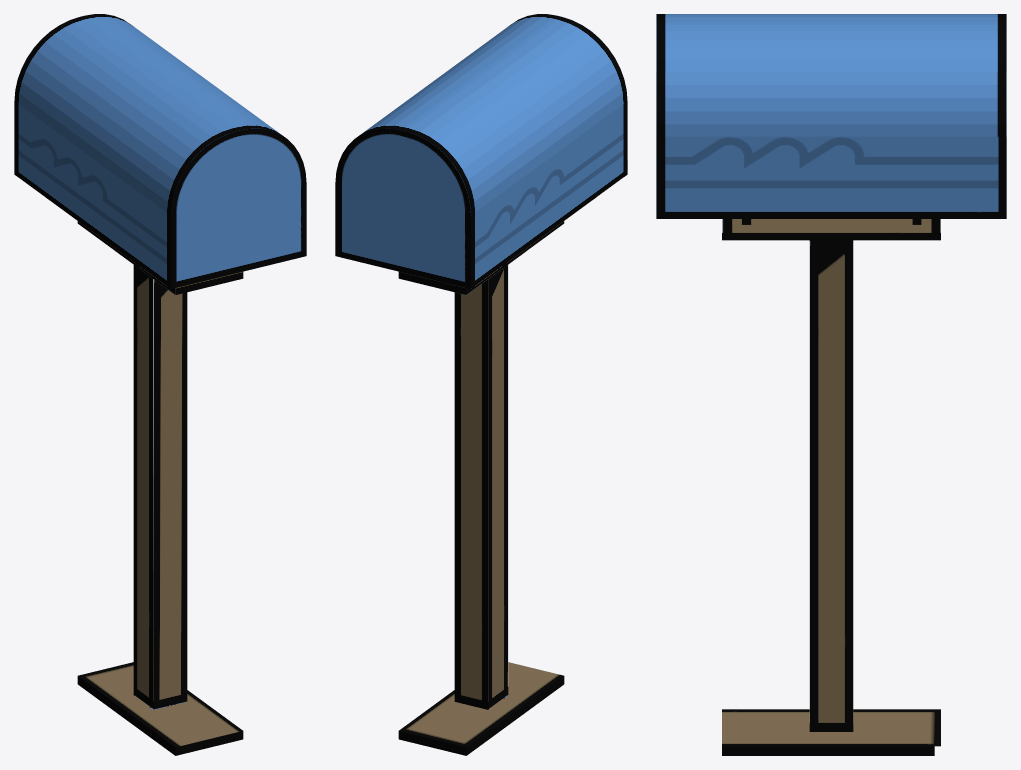
The model's file is mailbox.obj.
3 renders of one model, left to right at view 1: azimuth 30°, elevation 25°; view 2: azimuth 150°, elevation 25°; view 3: azimuth 270°, elevation 25°, orthographic. The views are drawn at different scales.
Visible parts, largest first — view 1: Cube.008_Cube.009; view 2: Cube.008_Cube.009; view 3: Cube.008_Cube.009.
Part boxes in pixels (x1,y1,x2,y2): Cube.008_Cube.009: [14, 14, 306, 755]; Cube.008_Cube.009: [335, 14, 627, 755]; Cube.008_Cube.009: [656, 14, 1006, 755].
Size of the model in its own units: 0.2 by 0.9 by 0.4.
1 material, 1 textured.
